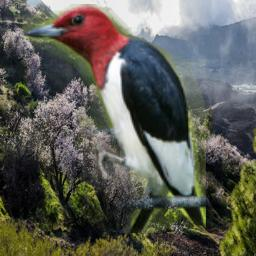Woodpecker: (22, 4, 206, 233)
